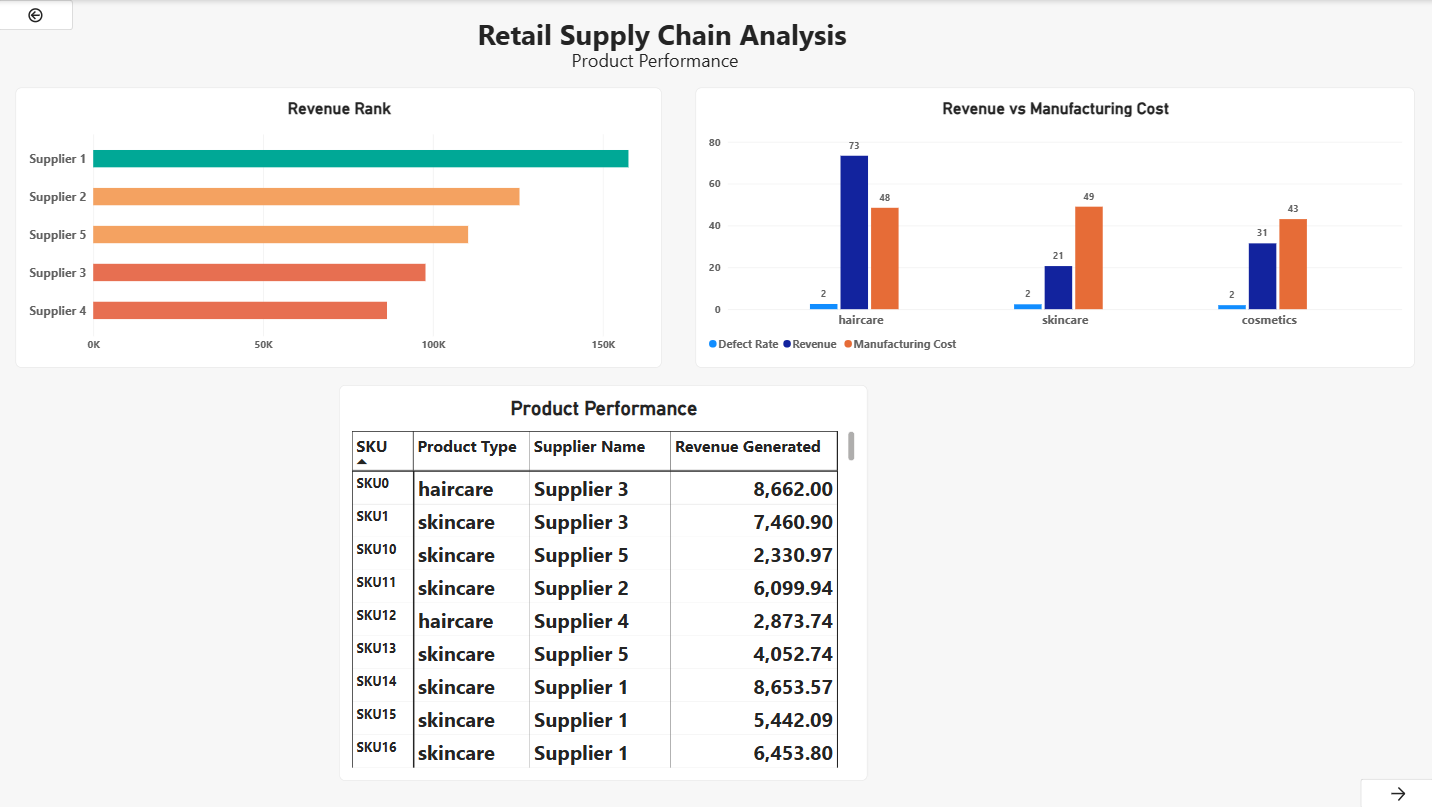

The dashboard page shown, as its layout file describes it:
{"tool":"powerbi","page":{"name":"Product Performance","canvas":[1920,1080],"ordinal":1},"visuals":[{"type":"barChart","title":"Revenue Rank","fields":{"Y":["supply_chain.Top 10 Revenue Rank"],"Category":["supply_chain.Supplier name"]},"box":[23.5,117.6,863.2,374.6],"z":0},{"type":"lineClusteredColumnComboChart","title":"Revenue vs Manufacturing Cost","fields":{"Category":["supply_chain.Product type"],"Y":["Avg(vw_product_performance.Defect rates)","Avg(vw_product_performance.Revenue per unit)","Avg(vw_product_performance.Manufacturing costs)"]},"box":[932,117.6,960.9,374.6],"z":1000},{"type":"pivotTable","title":"Product Performance","fields":{"Values":["Min(supply_chain.Product type)","Min(vw_product_performance.Supplier name)","Sum(supply_chain.Revenue generated)"],"Rows":["vw_management_attention.SKU"]},"box":[456,513.9,705.8,528.4],"z":2000},{"type":"actionButton","box":[0,0,100,40],"z":3000},{"type":"actionButton","box":[1820.9,1041,100,40],"z":4000},{"type":"textbox","box":[281.5,19.3,1209.6,68.7],"z":6000},{"type":"textbox","box":[761.9,63.3,238.9,50.7],"z":7000}]}

Visuals, with their boxes in screenshot pixels (x1, y1, x2, y2), scaled from the page's 1920x1080 canvas onto the 1432x807 screenshot:
"Revenue Rank" barChart: box(18, 88, 661, 368)
"Revenue vs Manufacturing Cost" lineClusteredColumnComboChart: box(695, 88, 1412, 368)
"Product Performance" pivotTable: box(340, 384, 867, 779)
actionButton: box(0, 0, 75, 30)
actionButton: box(1358, 778, 1431, 806)
textbox: box(210, 14, 1112, 66)
textbox: box(568, 47, 746, 85)
